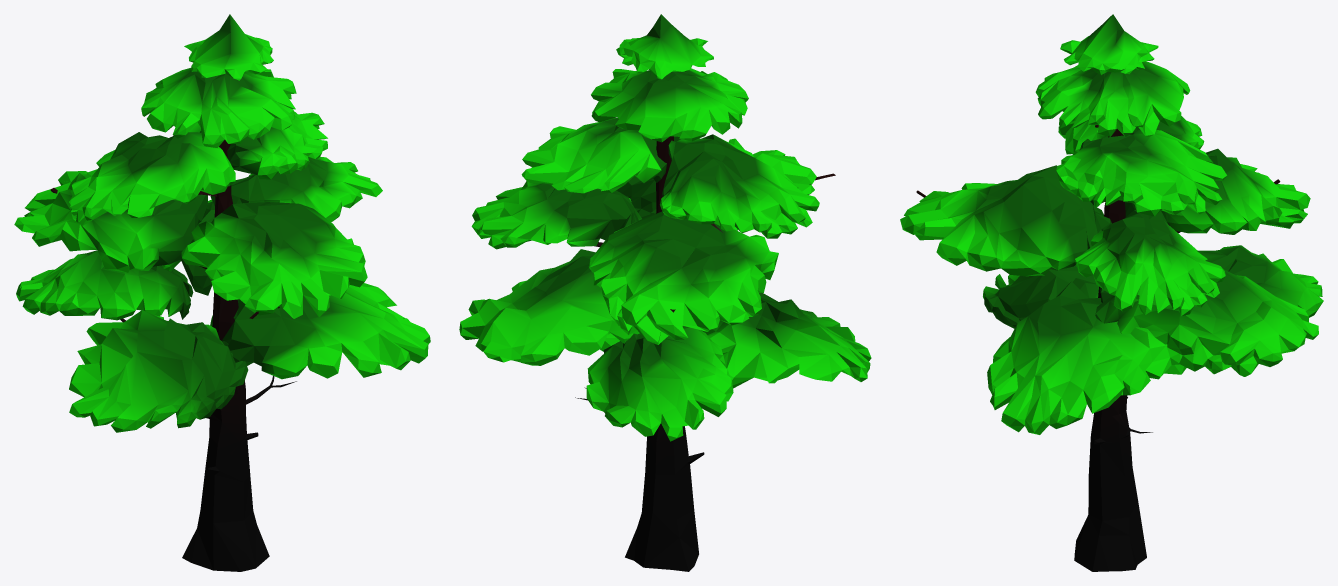
The model's file is Tree_Base (4).fbx.
3 views of the same model, side by side, from view 1: azimuth 30°, elevation 25°; view 2: azimuth 150°, elevation 25°; view 3: azimuth 270°, elevation 25° (orthographic).
Parts seen in each view (by area): view 1: Tree_Base; view 2: Tree_Base; view 3: Tree_Base.
Boxes of the visible parts, x1,y1,x2,y2 form: Tree_Base: (14, 14, 430, 571); Tree_Base: (459, 14, 871, 571); Tree_Base: (900, 14, 1323, 571).
Size of the model in its own units: 220 by 330 by 233.
